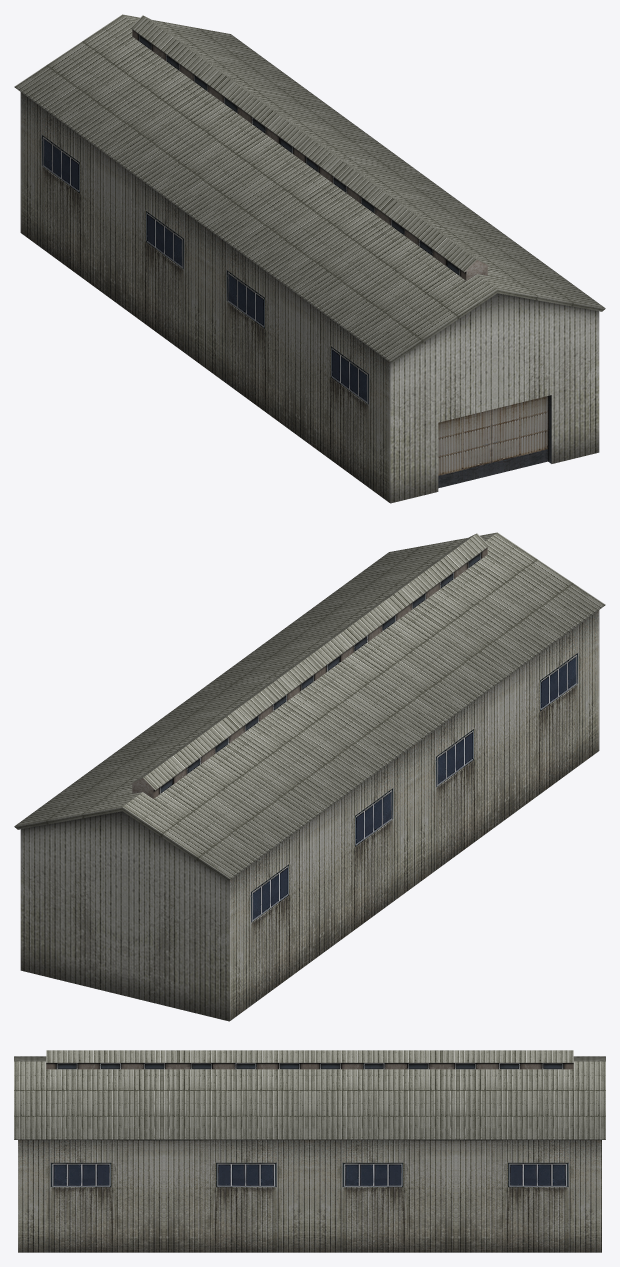
File: warehouse_02.FBX
The picture shows the model from 3 angles, top to bottom: view 1: azimuth 30°, elevation 25°; view 2: azimuth 150°, elevation 25°; view 3: azimuth 270°, elevation 25°; orthographic projection. The views are drawn at different scales.
Parts seen in each view (by area): view 1: 03; view 2: 03; view 3: 03.
Part boxes in pixels (left/top/right/bottom): 03: left=14, top=14, right=605, bottom=503; 03: left=14, top=532, right=605, bottom=1021; 03: left=14, top=1050, right=605, bottom=1252.
Size of the model in its own units: 829 by 2482 by 749.
1 material, 1 textured.
